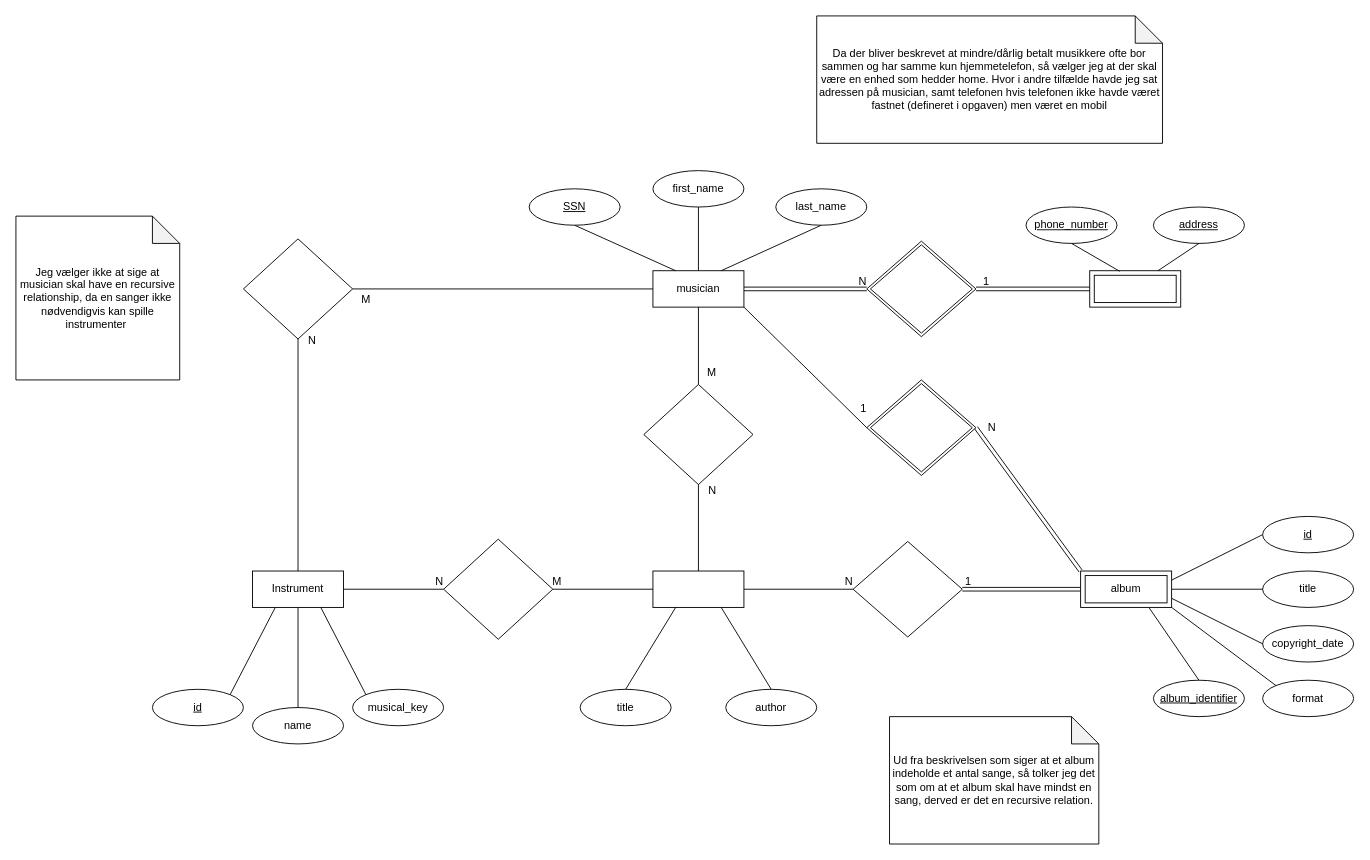
Some shapes in this 1370 by 860 pixel diagram are drawn without their labels. Here are the shapes that lost their labels. From the top down, the centre of each, then its label:
At point (298, 288): "Playing".
At point (921, 288): "living_in".
At point (1135, 288): "home".
At point (698, 434): "performing".
At point (921, 427): "produces".
At point (498, 588): "melody_with".
At point (698, 588): "Song".
At point (907, 589): "appears_in".
